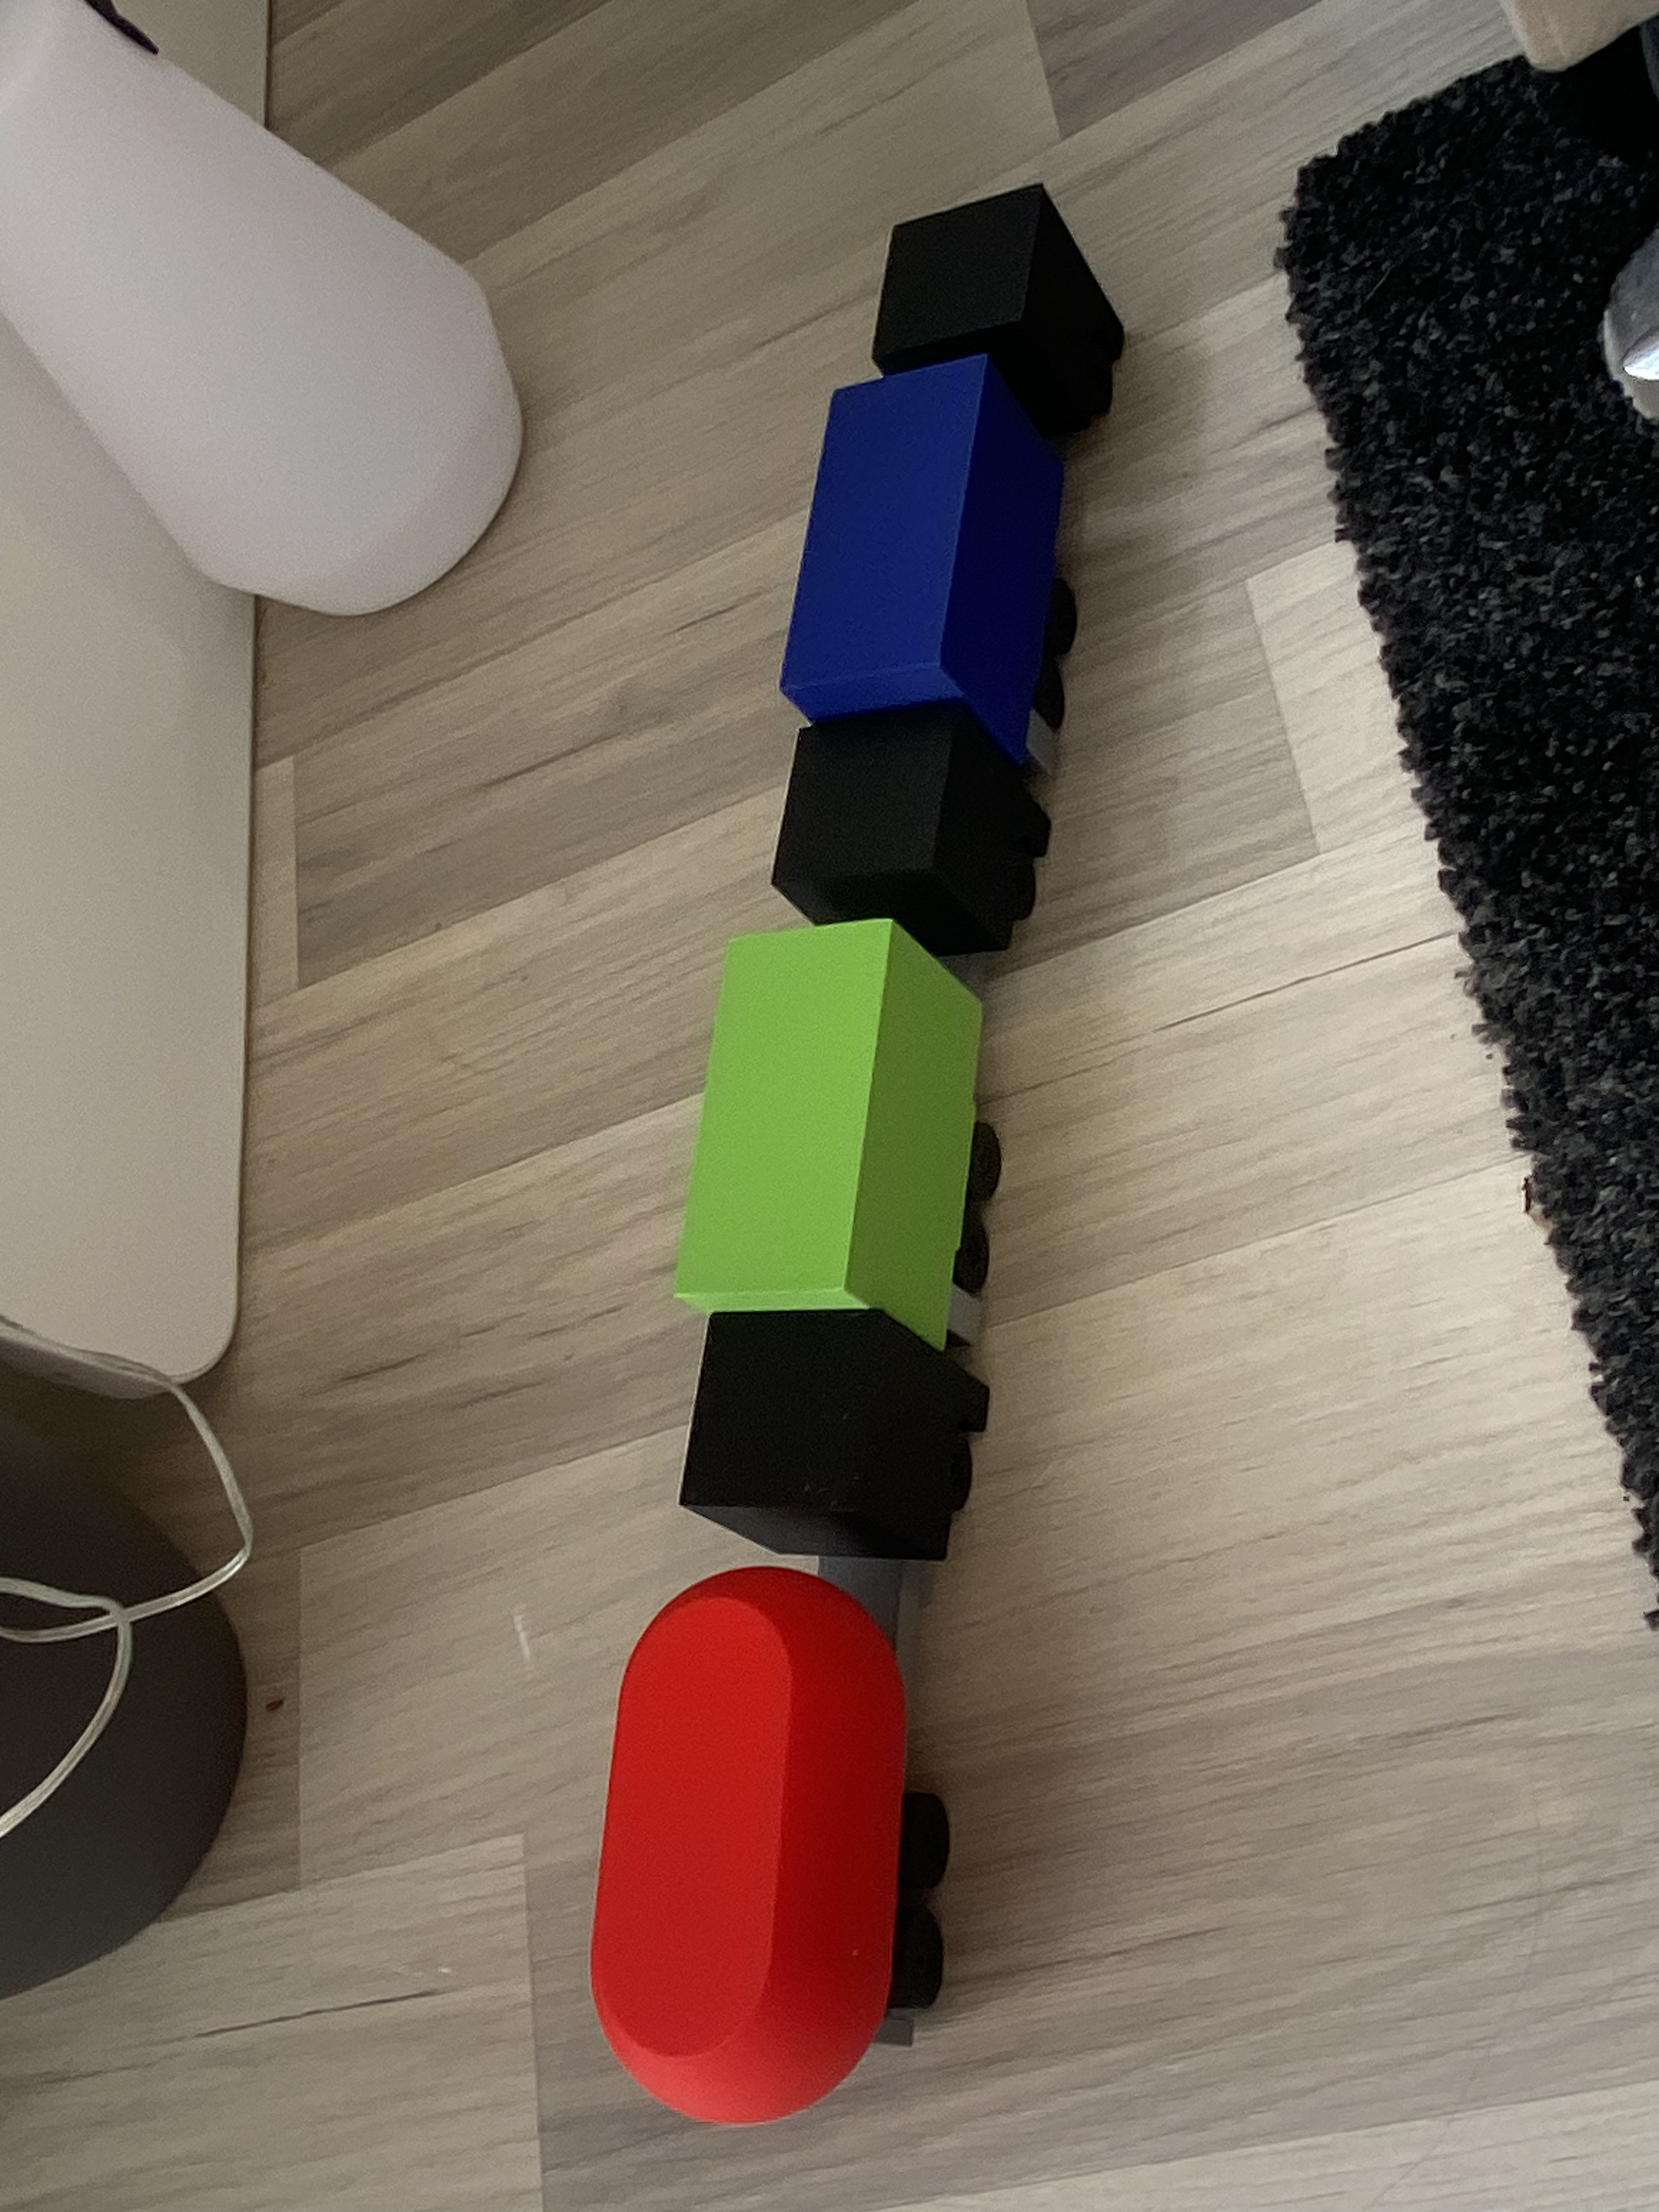blue_truck: (814, 183, 1114, 742)
green_truck: (720, 693, 1021, 1332)
red_truck: (606, 1305, 978, 2153)
